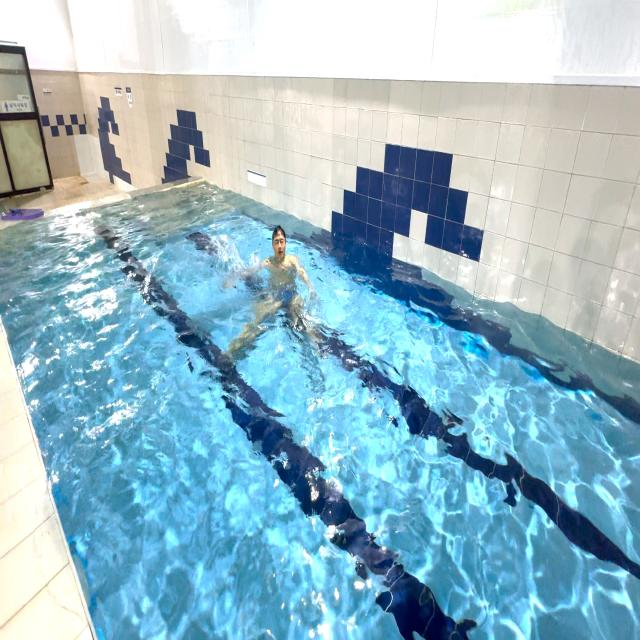Swimming: (224, 215, 336, 363)
